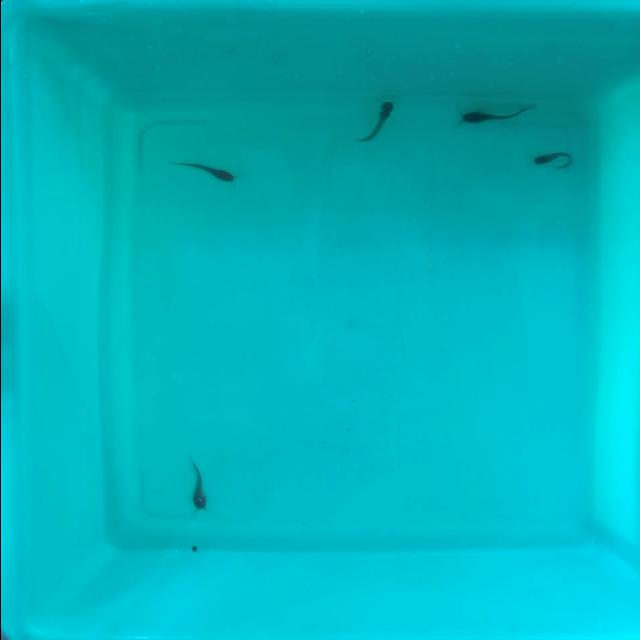lele: (352, 100, 394, 148), (168, 154, 233, 182), (459, 106, 534, 124), (189, 456, 209, 512), (532, 152, 568, 166)
